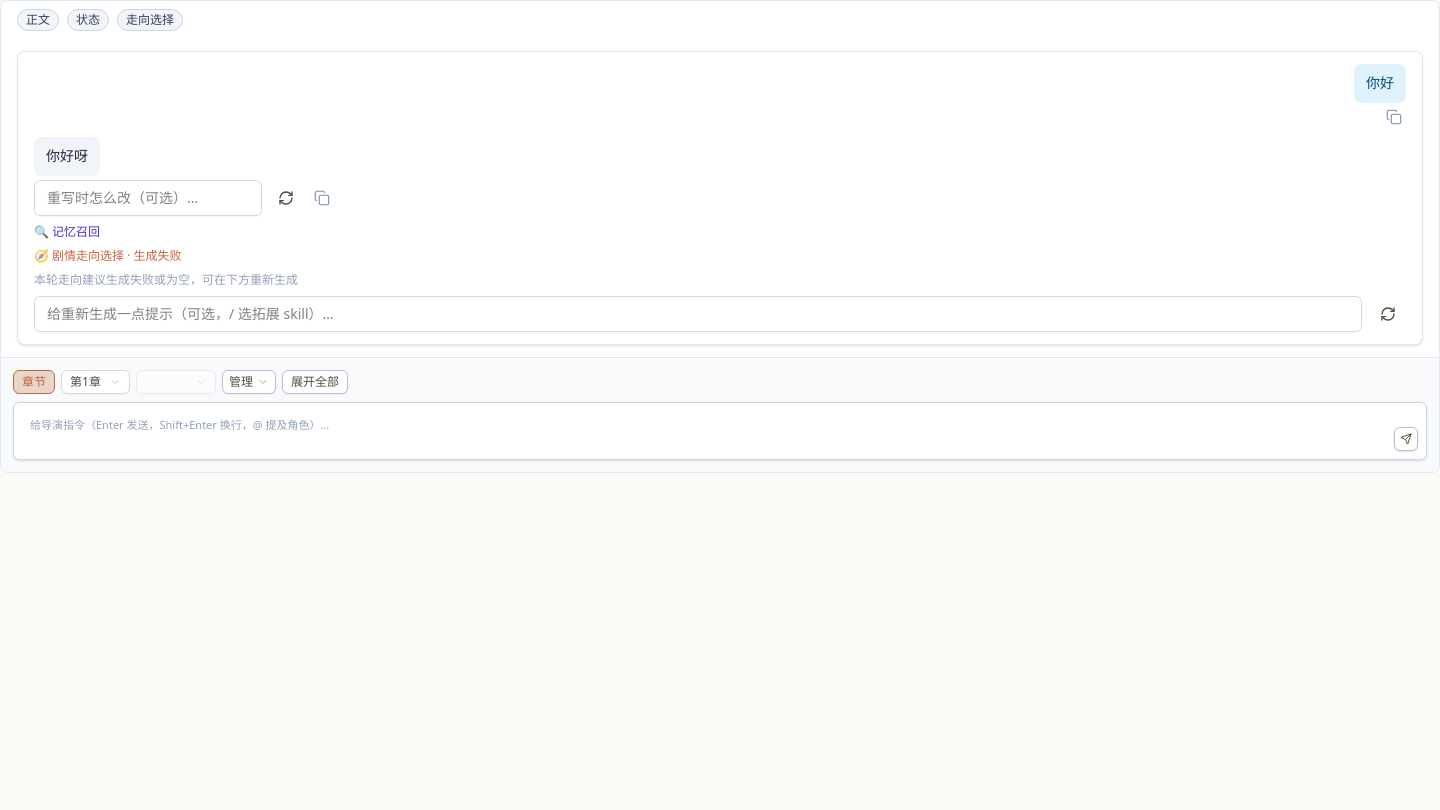
Test: StorySandboxPanel › clears rounds when the delete-branch confirm dialog is accepted and the delete succeeds
The width and height of the screenshot is (1440, 810).
Check: the text "你好呀" is shown, box [46, 145, 88, 168]
Click the button with aria-label "故事线操作".
click(249, 382)  # box [222, 370, 276, 394]
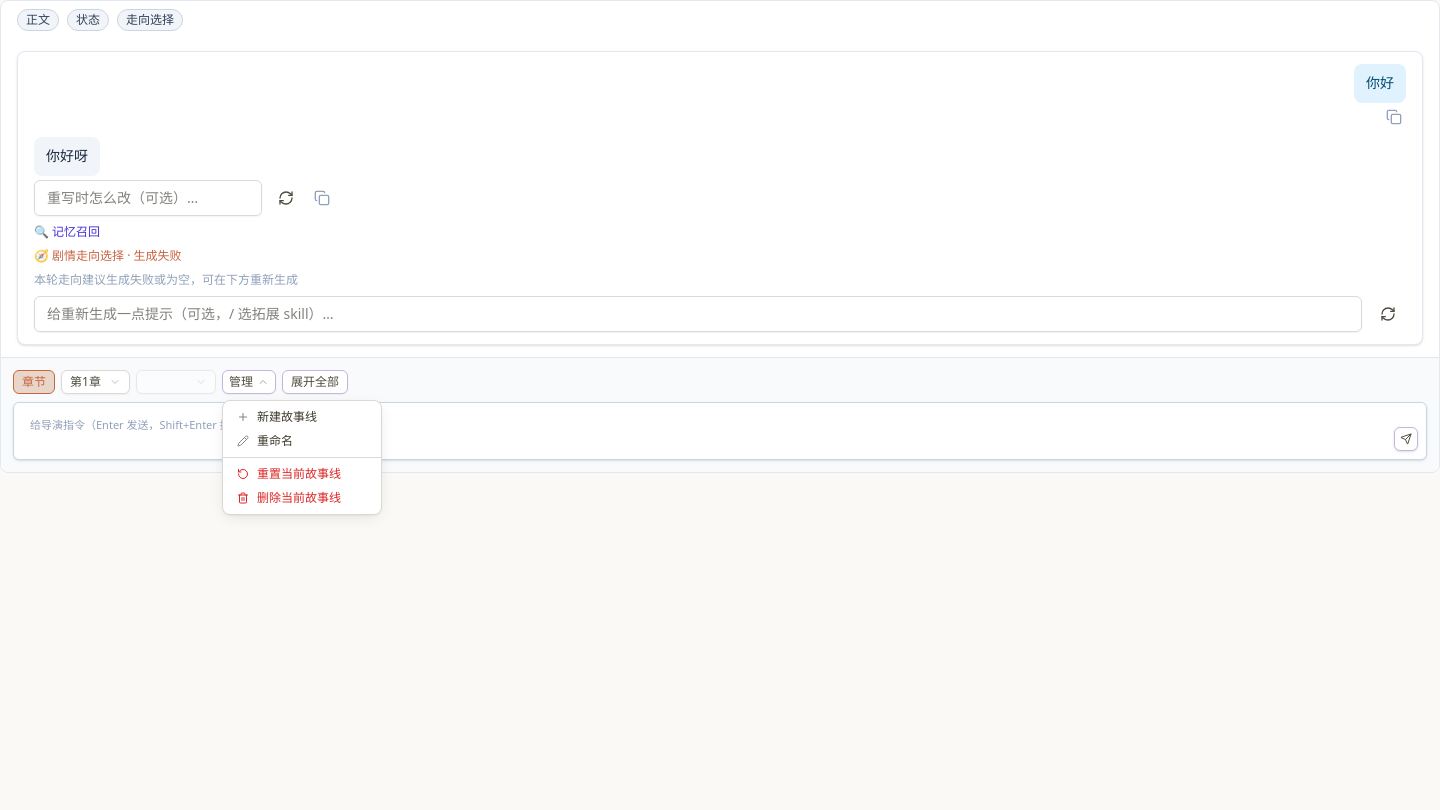
Click the menu item "删除当前故事线".
click(289, 498)  # box [237, 489, 341, 506]
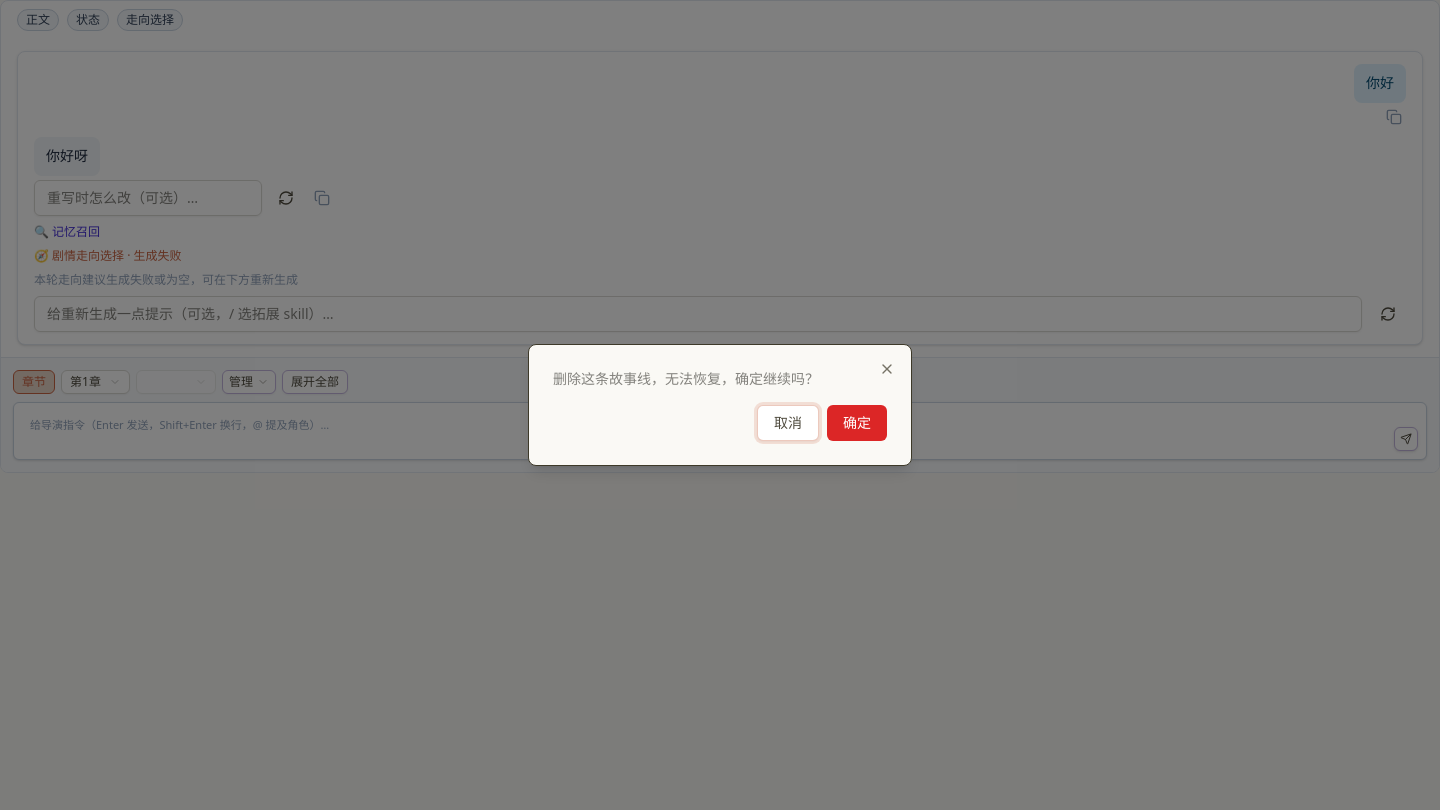
Check: the text "删除这条故事线，无法恢复，确定继续吗？" is shown, box [553, 369, 819, 388]
Click the button "确定".
click(857, 423)  # box [827, 405, 887, 441]
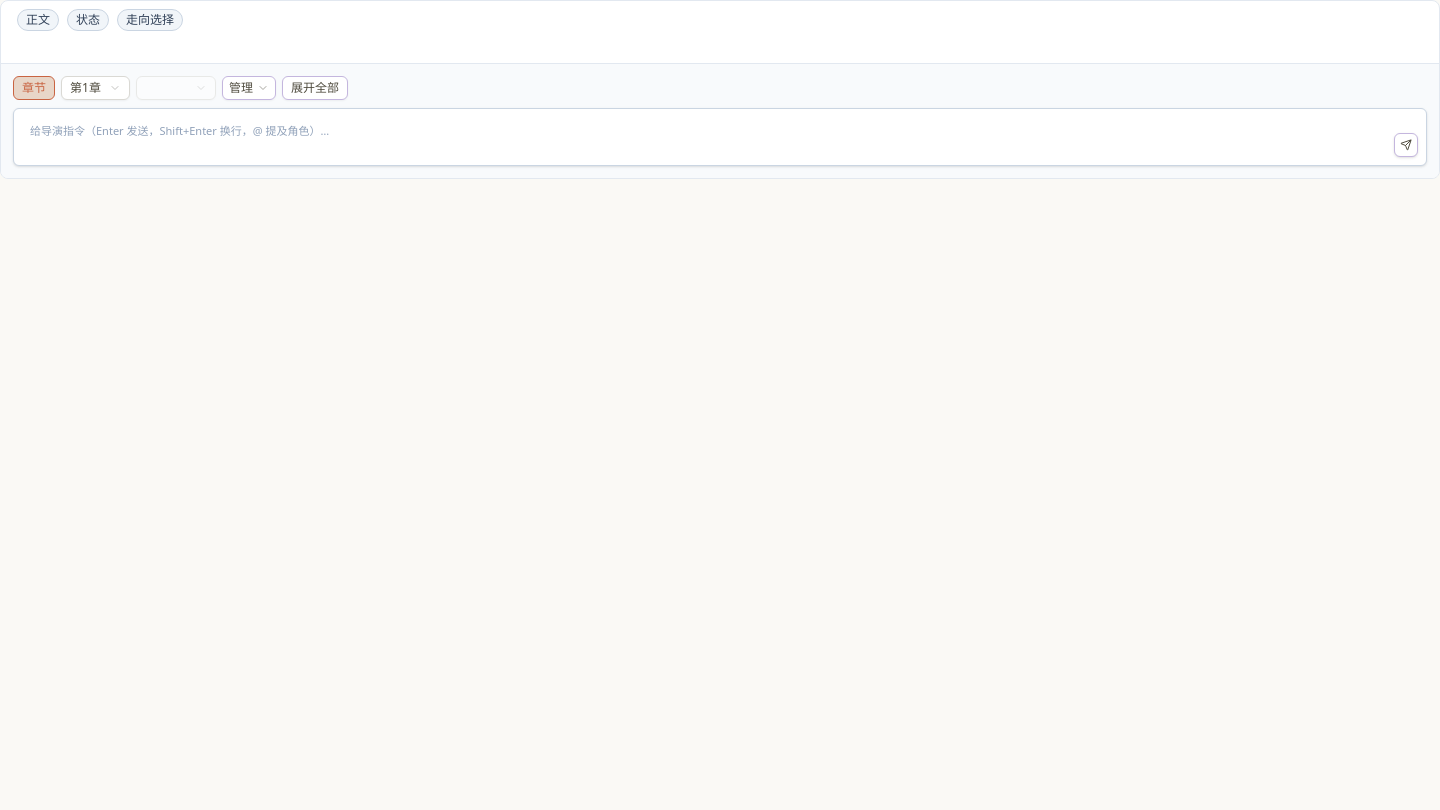
Check: the text "你好呀" is gone
